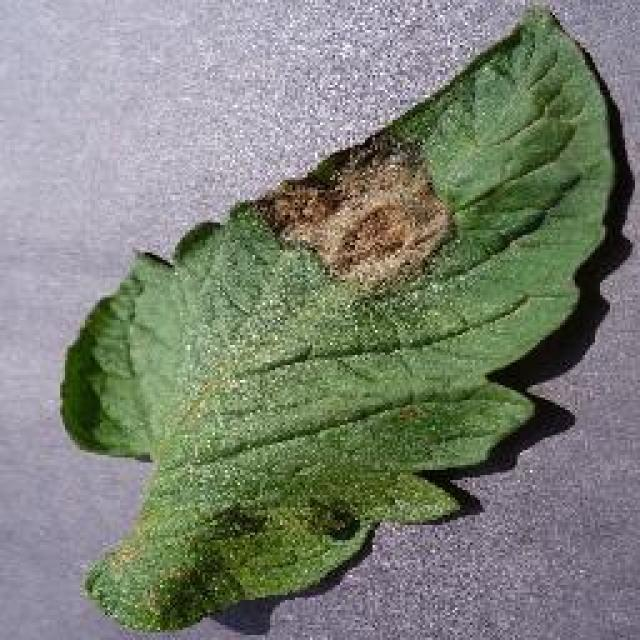Tomato late blight leaf: (56, 5, 616, 635)
